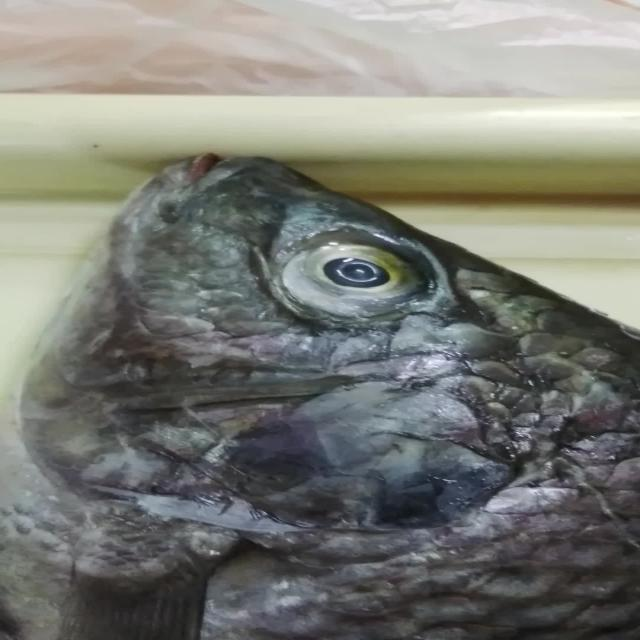Non-Fresh: (255, 209, 464, 340)
